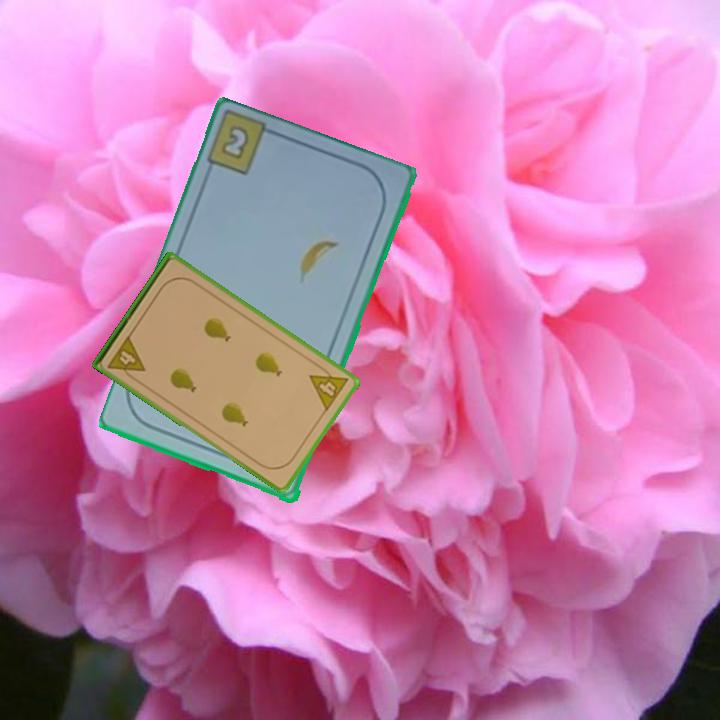2b: (217, 122, 253, 163)
4p: (306, 360, 351, 414), (104, 331, 148, 384)
